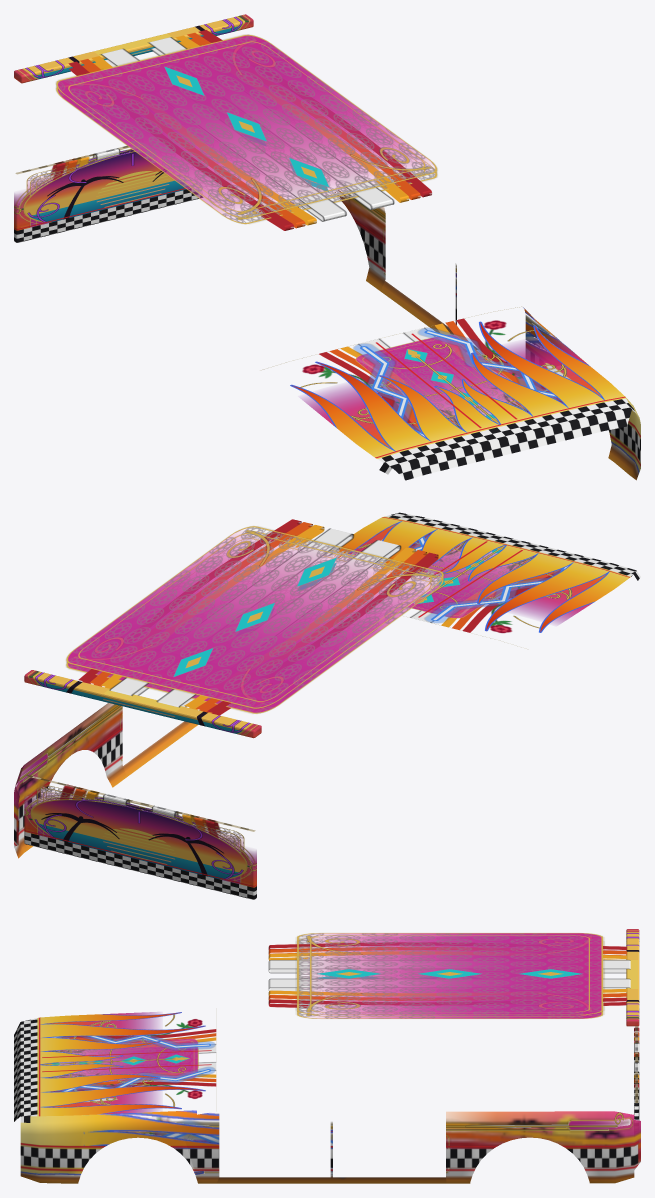
File: DunewalkerVinyls.glb
3 views of the same model, one above another, from view 1: azimuth 30°, elevation 25°; view 2: azimuth 150°, elevation 25°; view 3: azimuth 270°, elevation 25° (orthographic). The views are drawn at different scales.
Parts seen in each view (by area): view 1: DunewalkerLivery_patterns_roof, DunewalkerLivery_purple_lace_roof, DunewalkerLivery_flames_hood, DunewalkerLivery_mural_trunk, DunewalkerLivery_checker_hood, DunewalkerLivery_retro_waves_roof, DunewalkerLivery_stripes_roof, DunewalkerLivery_patterns_hood, DunewalkerLivery_lightning_hood, DunewalkerLivery_showcar_roof, DunewalkerLivery_checker_trunk, DunewalkerLivery_purple_lace_hood (+14 smaller); view 2: DunewalkerLivery_patterns_roof, DunewalkerLivery_purple_lace_roof, DunewalkerLivery_mural_trunk, DunewalkerLivery_flames_hood, DunewalkerLivery_retro_waves_roof, DunewalkerLivery_stripes_roof, DunewalkerLivery_checker_trunk, DunewalkerLivery_patterns_hood, DunewalkerLivery_showcar_roof, DunewalkerLivery_checker_hood, DunewalkerLivery_retro_waves_side, DunewalkerLivery_tropical_side (+15 smaller); view 3: DunewalkerLivery_patterns_roof, DunewalkerLivery_purple_lace_roof, DunewalkerLivery_flames_hood, DunewalkerLivery_flames_side, DunewalkerLivery_checker_side, DunewalkerLivery_retro_waves_roof, DunewalkerLivery_tropical_side, DunewalkerLivery_stripes_roof, DunewalkerLivery_patterns_hood, DunewalkerLivery_sunset_fade_side, DunewalkerLivery_retro_waves_side, DunewalkerLivery_checker_hood (+17 smaller).
Boxes of the visible parts, box(x1,y1,x2,y2) form: DunewalkerLivery_patterns_roof: box(56, 35, 436, 223); DunewalkerLivery_purple_lace_roof: box(66, 45, 434, 223); DunewalkerLivery_flames_hood: box(290, 321, 625, 458); DunewalkerLivery_mural_trunk: box(14, 15, 249, 224); DunewalkerLivery_checker_hood: box(375, 333, 635, 480); DunewalkerLivery_retro_waves_roof: box(68, 30, 431, 230); DunewalkerLivery_stripes_roof: box(100, 37, 394, 221); DunewalkerLivery_patterns_hood: box(355, 334, 526, 427); DunewalkerLivery_lightning_hood: box(353, 328, 560, 436); DunewalkerLivery_showcar_roof: box(56, 34, 437, 224); DunewalkerLivery_checker_trunk: box(14, 146, 203, 242); DunewalkerLivery_purple_lace_hood: box(392, 345, 523, 426); DunewalkerLivery_patterns_roof: box(66, 526, 443, 713); DunewalkerLivery_purple_lace_roof: box(77, 527, 441, 703); DunewalkerLivery_mural_trunk: box(24, 670, 257, 881); DunewalkerLivery_flames_hood: box(334, 516, 630, 632); DunewalkerLivery_retro_waves_roof: box(78, 519, 438, 715); DunewalkerLivery_stripes_roof: box(109, 528, 401, 707); DunewalkerLivery_checker_trunk: box(24, 775, 256, 899); DunewalkerLivery_patterns_hood: box(408, 541, 532, 618); DunewalkerLivery_showcar_roof: box(66, 526, 443, 713); DunewalkerLivery_checker_hood: box(382, 512, 640, 617); DunewalkerLivery_retro_waves_side: box(14, 704, 122, 841); DunewalkerLivery_tropical_side: box(14, 703, 121, 829); DunewalkerLivery_patterns_roof: box(297, 933, 602, 1018); DunewalkerLivery_purple_lace_roof: box(297, 933, 583, 1018); DunewalkerLivery_flames_hood: box(37, 1012, 205, 1116); DunewalkerLivery_flames_side: box(20, 1110, 617, 1174); DunewalkerLivery_checker_side: box(20, 1141, 638, 1171); DunewalkerLivery_retro_waves_roof: box(268, 942, 626, 1007); DunewalkerLivery_tropical_side: box(446, 1111, 640, 1150); DunewalkerLivery_stripes_roof: box(268, 960, 630, 991); DunewalkerLivery_patterns_hood: box(45, 1038, 198, 1082); DunewalkerLivery_sunset_fade_side: box(20, 1123, 640, 1183); DunewalkerLivery_retro_waves_side: box(126, 1121, 640, 1159); DunewalkerLivery_checker_hood: box(14, 1017, 211, 1122).
Bounding box in the file's own units: 7.66 × 5.33 × 19.2.
50 materials, 50 textured.
